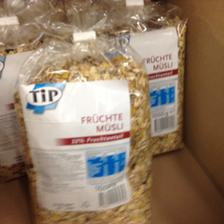Cerealien: (17, 34, 149, 222)
